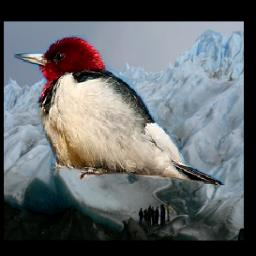Woodpecker: (13, 36, 226, 186)
